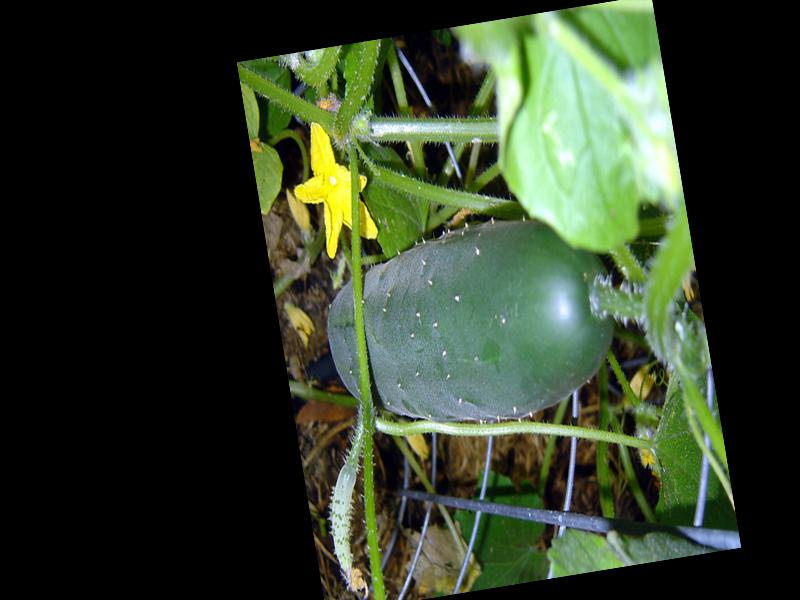Cucumber: (315, 205, 628, 448)
